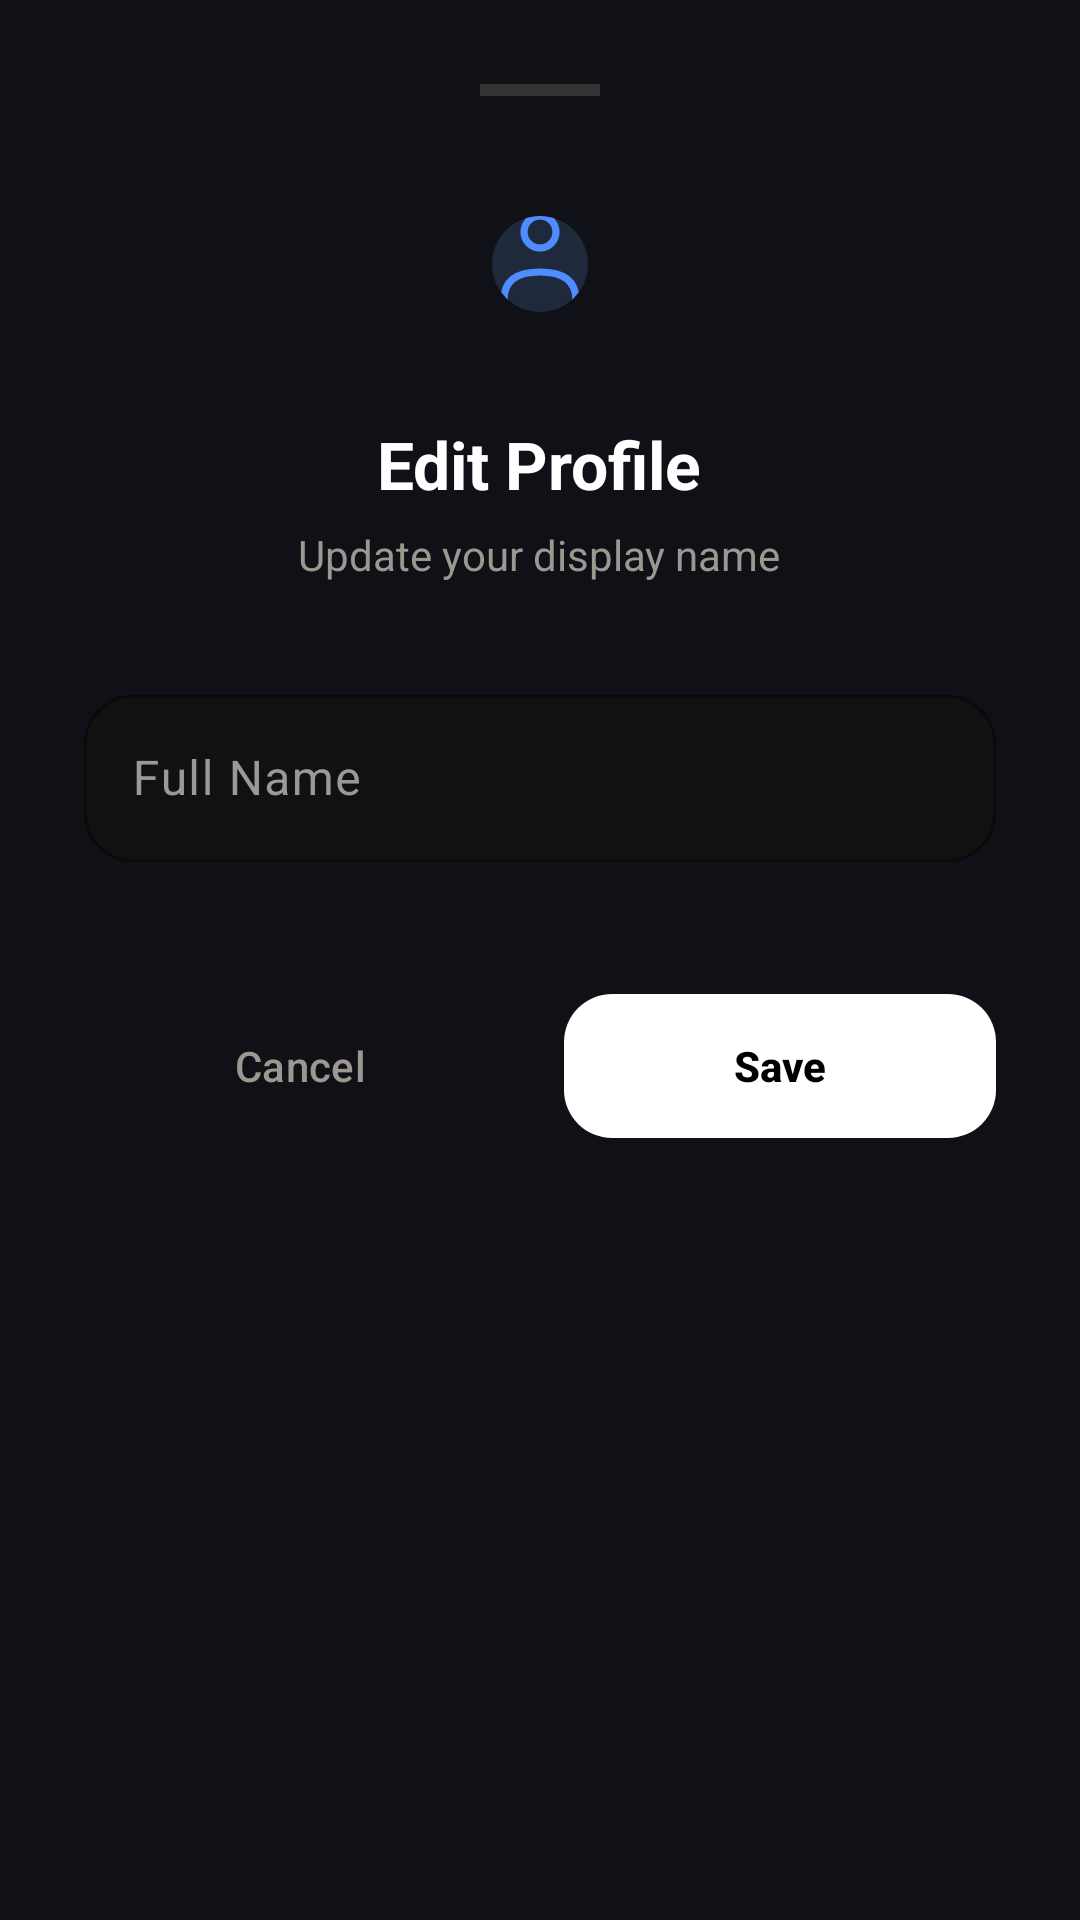

Icons on this 1080w x 1920h Android screen, each with its box as bbox=[x1, y1, x2, y2]:
person: bbox=[492, 216, 588, 312]
